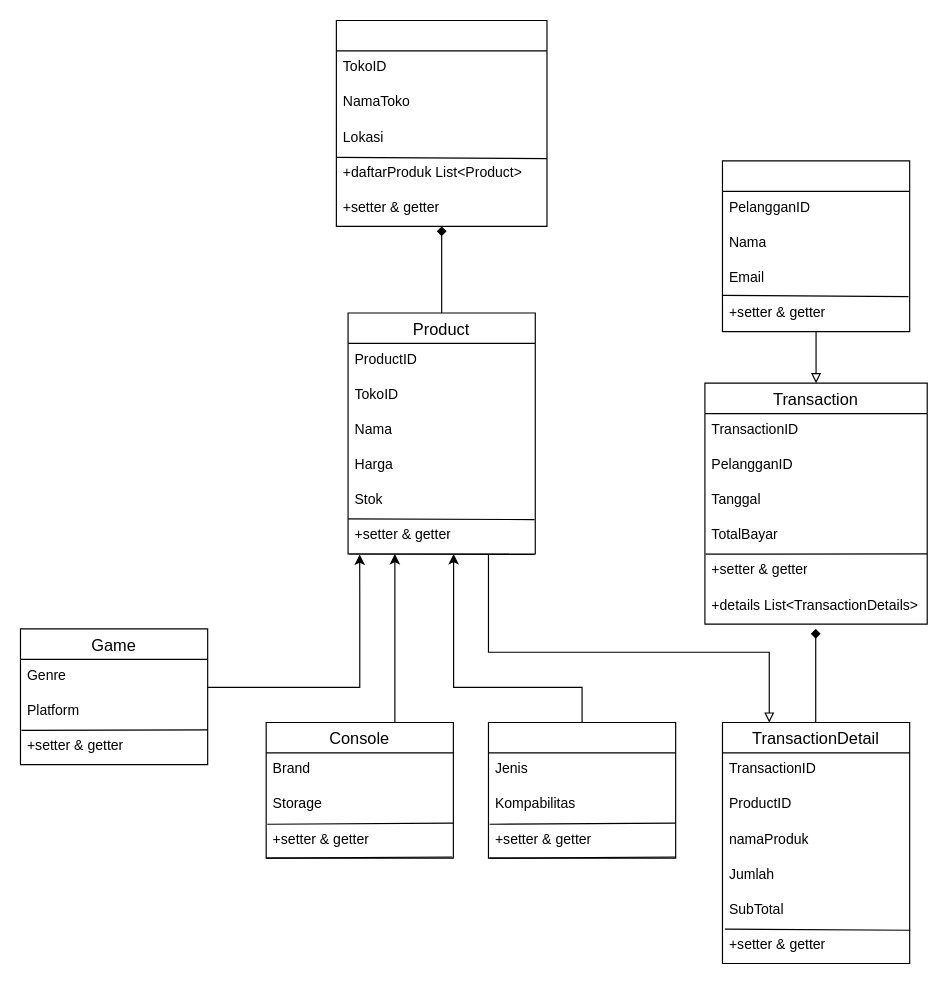
Some shapes in this 949 by 987 pixel diagram are drawn without their labels. Each missing label, with the box of its shape:
Accessory: (487, 721, 676, 858)
Customer: (721, 160, 910, 332)
GameStore: (335, 19, 547, 226)
